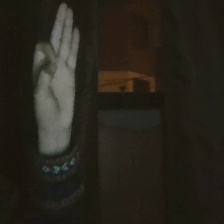F: (21, 3, 88, 132)
